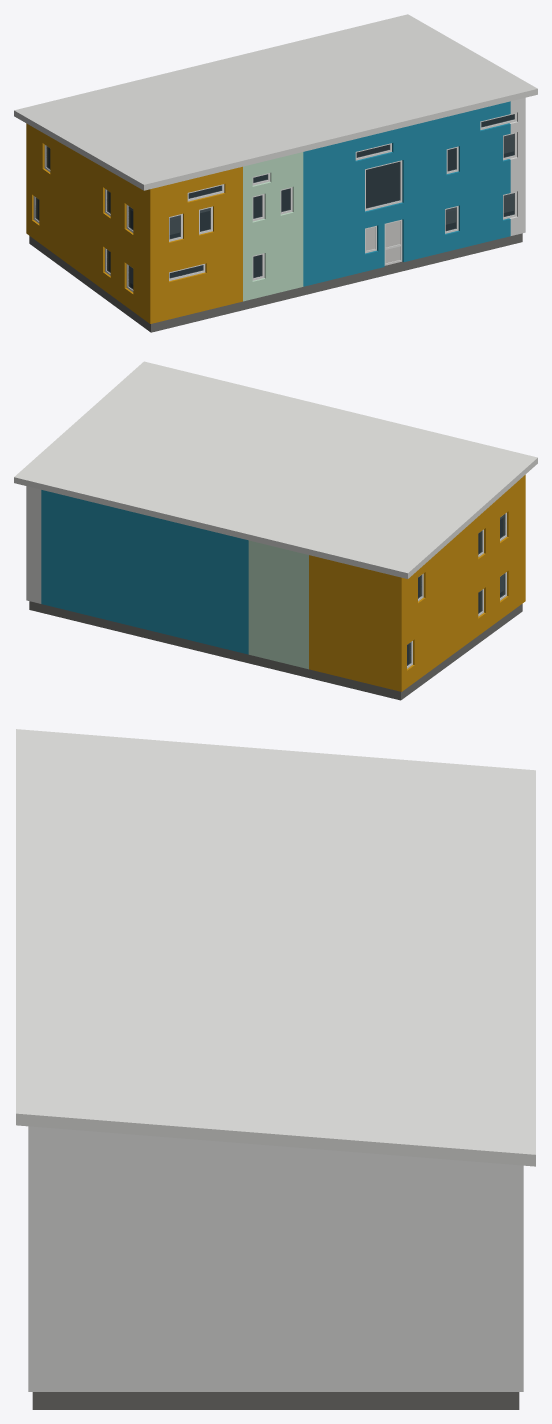
The model's file is cst.glb.
3 renders of one model, top to bottom at view 1: azimuth 30°, elevation 25°; view 2: azimuth 150°, elevation 25°; view 3: azimuth 270°, elevation 25°, orthographic. The views are drawn at different scales.
Parts seen in each view (by area): view 1: B02_Walls, B02_RoofSlab, B02_Glazing, B02_Plinth, B02_PVC_Frames, B02_MattePanels; view 2: B02_RoofSlab, B02_Walls, B02_Plinth, B02_Glazing, B02_PVC_Frames; view 3: B02_RoofSlab, B02_Walls, B02_Plinth.
Boxes of the visible parts, x1,y1,x2,y2 form: B02_Walls: (26,97,525,323); B02_RoofSlab: (14,14,537,190); B02_Glazing: (35,114,514,289); B02_Plinth: (29,233,522,332); B02_PVC_Frames: (33,112,516,292); B02_MattePanels: (366,221,400,263); B02_RoofSlab: (14,361,537,578); B02_Walls: (26,475,525,691); B02_Plinth: (29,601,522,700); B02_Glazing: (407,514,505,665); B02_PVC_Frames: (407,512,506,668); B02_RoofSlab: (16,729,535,1166); B02_Walls: (28,1126,523,1391); B02_Plinth: (32,1392,519,1409).
Size of what is drawn, in the model's own units: 21 by 7.82 by 12.
